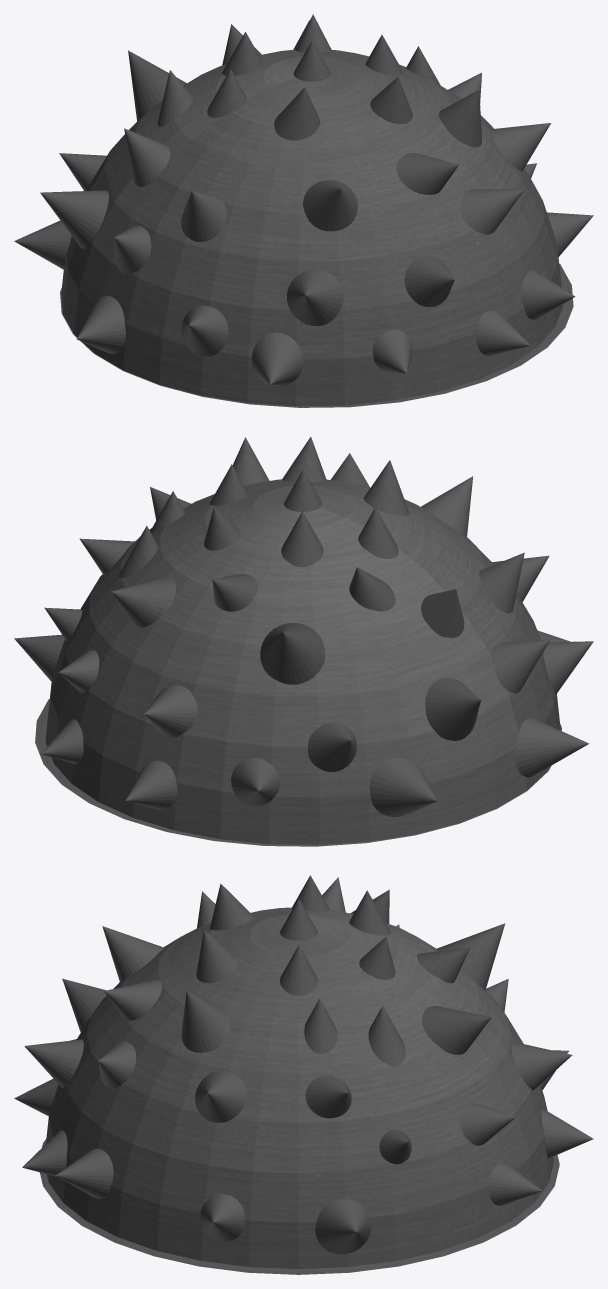
The model's file is enem.fbx.
3 renders of one model, top to bottom at view 1: azimuth 30°, elevation 25°; view 2: azimuth 150°, elevation 25°; view 3: azimuth 270°, elevation 25°, orthographic. The views are drawn at different scales.
Visible parts, largest first — view 1: Enemigo; view 2: Enemigo; view 3: Enemigo.
Part boxes in pixels (x1=…): Enemigo: x1=14, y1=14, x2=593, y2=407; Enemigo: x1=14, y1=436, x2=593, y2=846; Enemigo: x1=14, y1=875, x2=593, y2=1274.
Bounding box in the file's own units: 410 × 200 × 398.
1 material, 1 textured.
